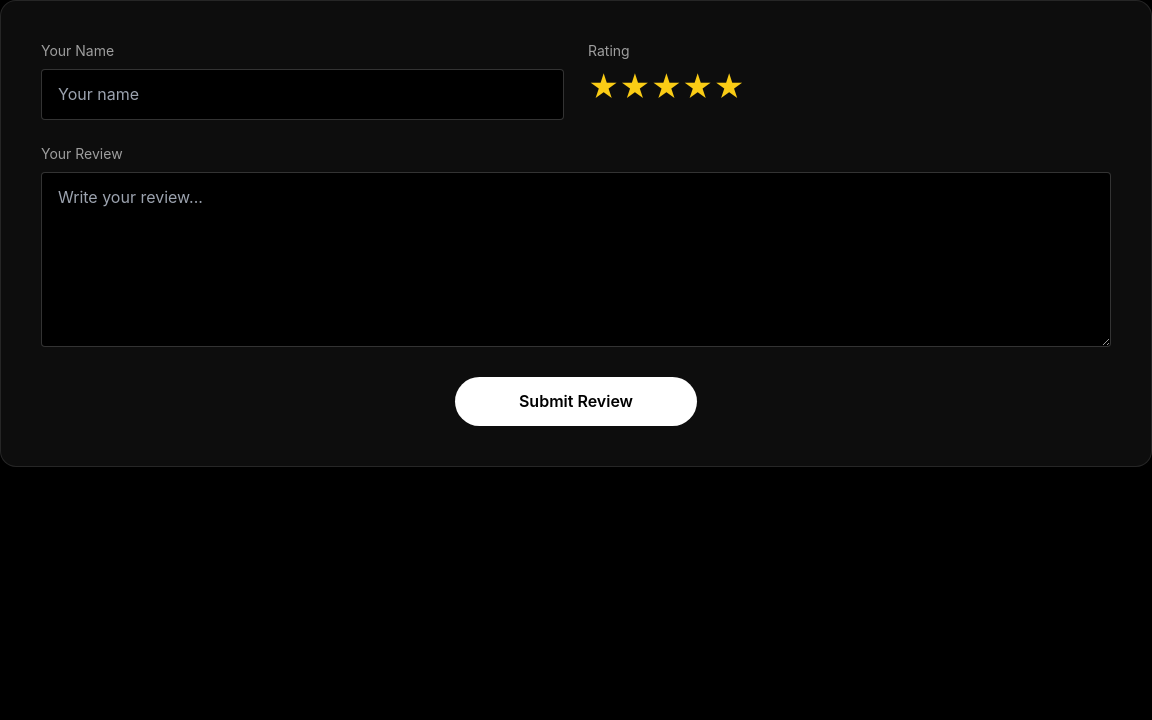
Test: shows a success confirmation after a successful submit
Type "Priya" into the field with placeholder "Your Name" at (302, 94), box left=41, top=69, right=564, bottom=120
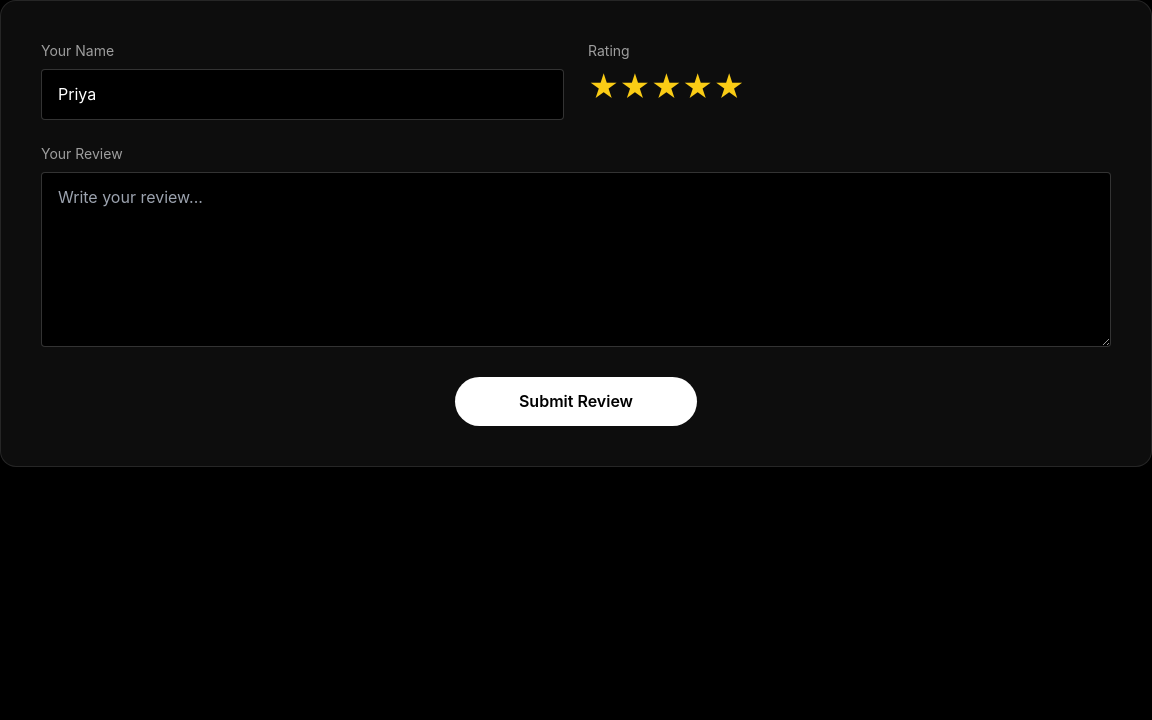
Type "Great work." into the text box with placeholder "Write your review..." at (576, 259), box left=41, top=172, right=1111, bottom=347
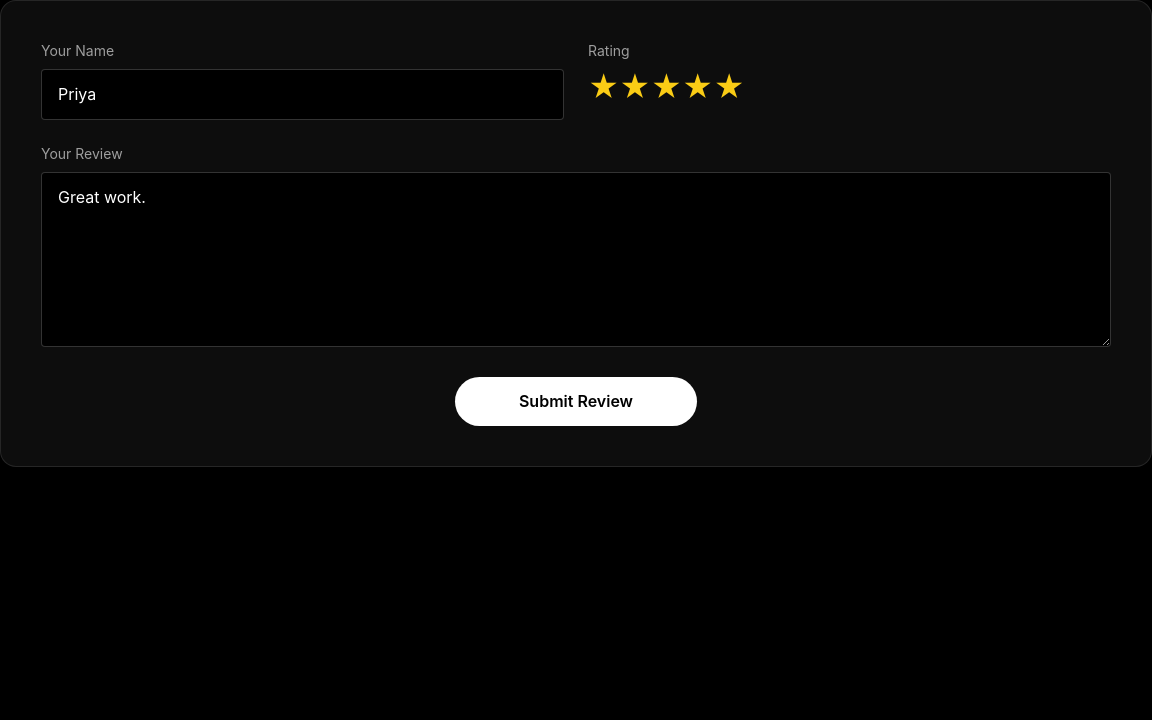
Click the button "Submit Review" at (576, 402), box left=455, top=377, right=697, bottom=426
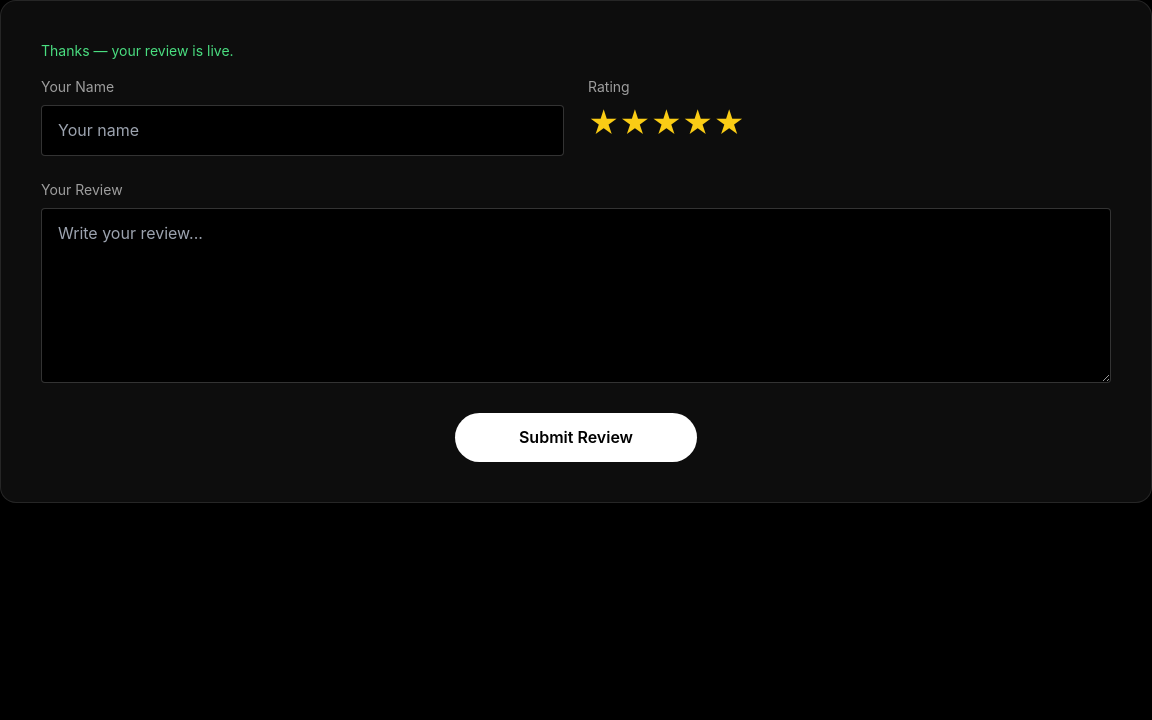
Expected: the message reads "Thanks — your review is live.", left=41, top=42, right=234, bottom=59
